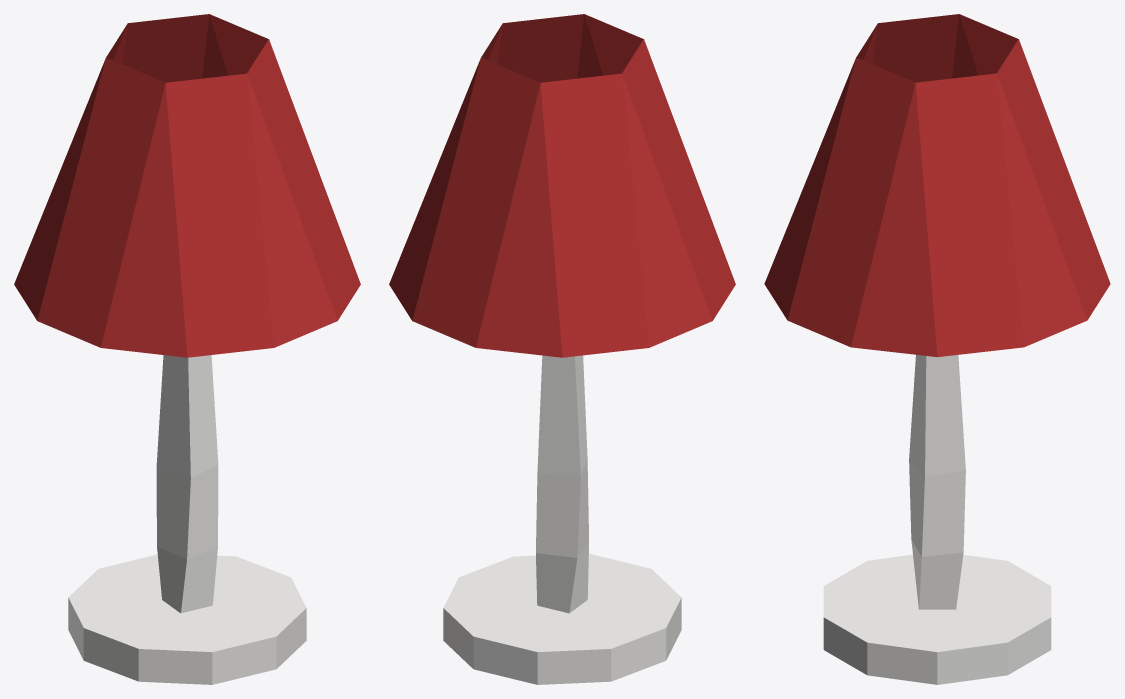
File: Lamp_4.fbx
The picture shows the model from 3 angles, left to right: view 1: azimuth 30°, elevation 25°; view 2: azimuth 150°, elevation 25°; view 3: azimuth 270°, elevation 25°; orthographic projection.
Parts seen in each view (by area): view 1: Lamp_4; view 2: Lamp_4; view 3: Lamp_4.
Boxes of the visible parts, x1,y1,x2,y2 form: Lamp_4: (14,14,360,684); Lamp_4: (389,14,735,684); Lamp_4: (764,14,1110,684).
Size of the model in its own units: 42.97 by 42.97 by 80.23.
